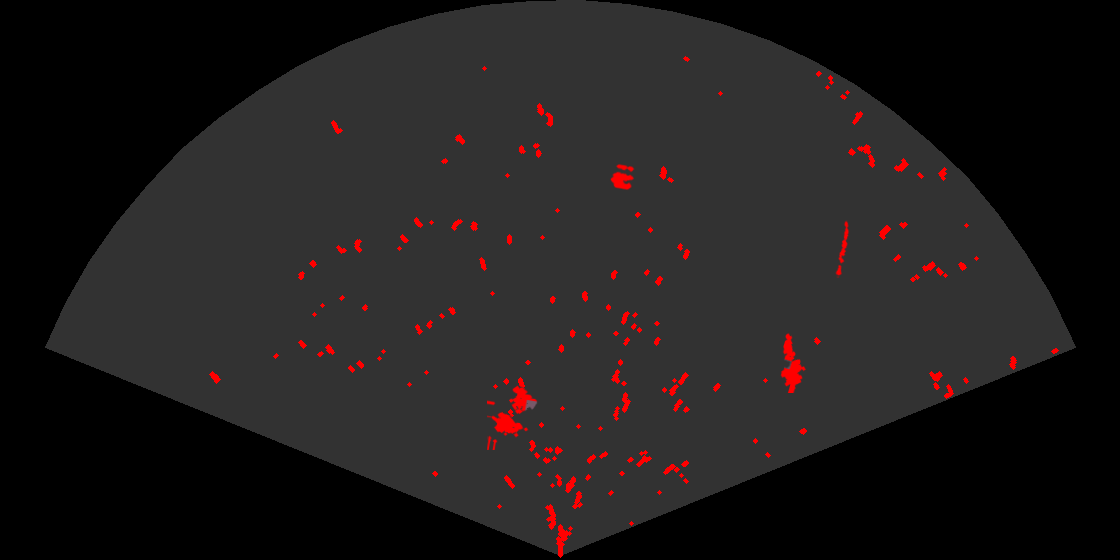ball: (609, 162, 636, 192)
cage: (487, 384, 539, 450)
chain: (834, 220, 851, 278)
frogman: (779, 331, 808, 393)
